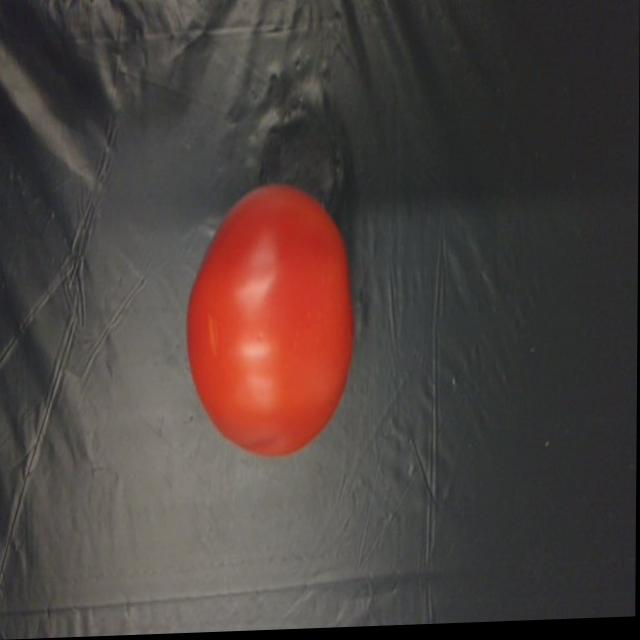kirmizi: (182, 182, 360, 471)
